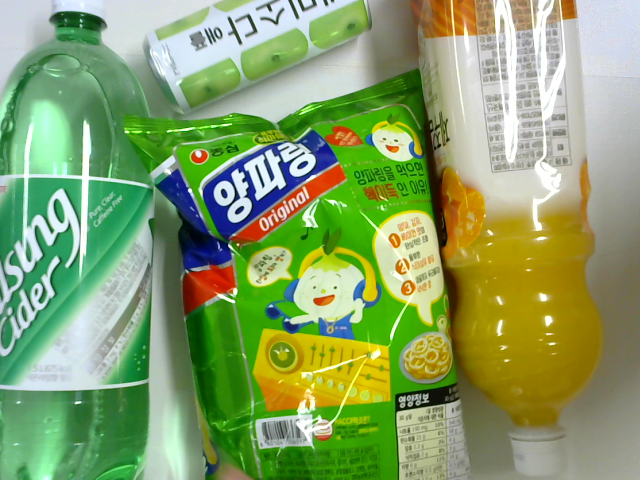Chilseong_Cider_1.5L: (3, 2, 156, 480)
Demisoda_Apple_Can_250ml: (145, 4, 379, 104)
Jeju_Tangerine_1.5L: (415, 2, 602, 480)
Oninon_Ring: (131, 76, 473, 480)
